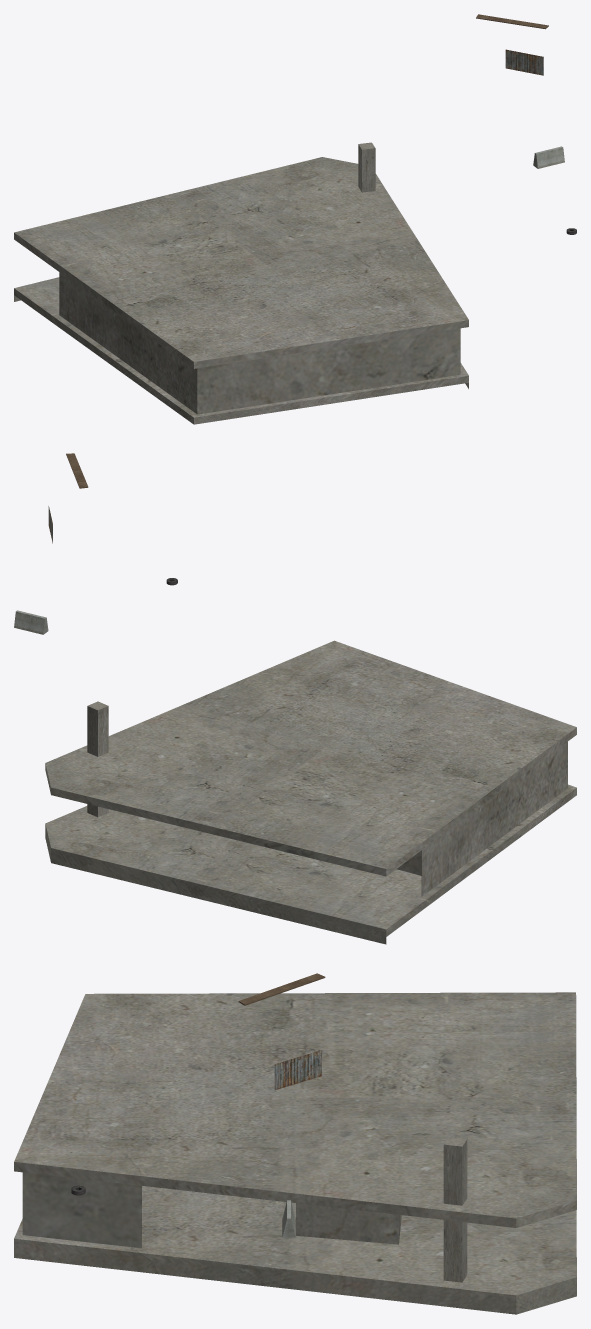
The model's file is CONSTRUCTION AREA.fbx.
3 renders of one model, top to bottom at view 1: azimuth 30°, elevation 25°; view 2: azimuth 150°, elevation 25°; view 3: azimuth 270°, elevation 25°, orthographic. The views are drawn at different scales.
Parts seen in each view (by area): view 1: walls_0f1b98c7.dds_0.002, walls_0f1b98c7.dds_0.001, metalplates_0d6e0646.dds_0.001, roadb_3a1514b3.dds_0.001; view 2: walls_0f1b98c7.dds_0.002, walls_0f1b98c7.dds_0.001, roadb_3a1514b3.dds_0.001; view 3: walls_0f1b98c7.dds_0.002, walls_0f1b98c7.dds_0.001, metalplates_0d6e0646.dds_0.001, woodplanks_Mat.1_0.002, roadb_3a1514b3.dds_0.001.
Part boxes in pixels (left/top/right/bottom): walls_0f1b98c7.dds_0.002: left=14, top=157, right=468, bottom=424; walls_0f1b98c7.dds_0.001: left=358, top=142, right=375, bottom=192; metalplates_0d6e0646.dds_0.001: left=505, top=49, right=543, bottom=75; roadb_3a1514b3.dds_0.001: left=533, top=146, right=564, bottom=168; walls_0f1b98c7.dds_0.002: left=45, top=640, right=576, bottom=944; walls_0f1b98c7.dds_0.001: left=87, top=701, right=108, bottom=817; roadb_3a1514b3.dds_0.001: left=14, top=610, right=48, bottom=634; walls_0f1b98c7.dds_0.002: left=14, top=992, right=576, bottom=1314; walls_0f1b98c7.dds_0.001: left=443, top=1136, right=467, bottom=1282; metalplates_0d6e0646.dds_0.001: left=274, top=1050, right=321, bottom=1089; woodplanks_Mat.1_0.002: left=238, top=973, right=325, bottom=1005; roadb_3a1514b3.dds_0.001: left=282, top=1200, right=295, bottom=1237.
Size of the model in its own units: 2894 by 1637 by 2299.
